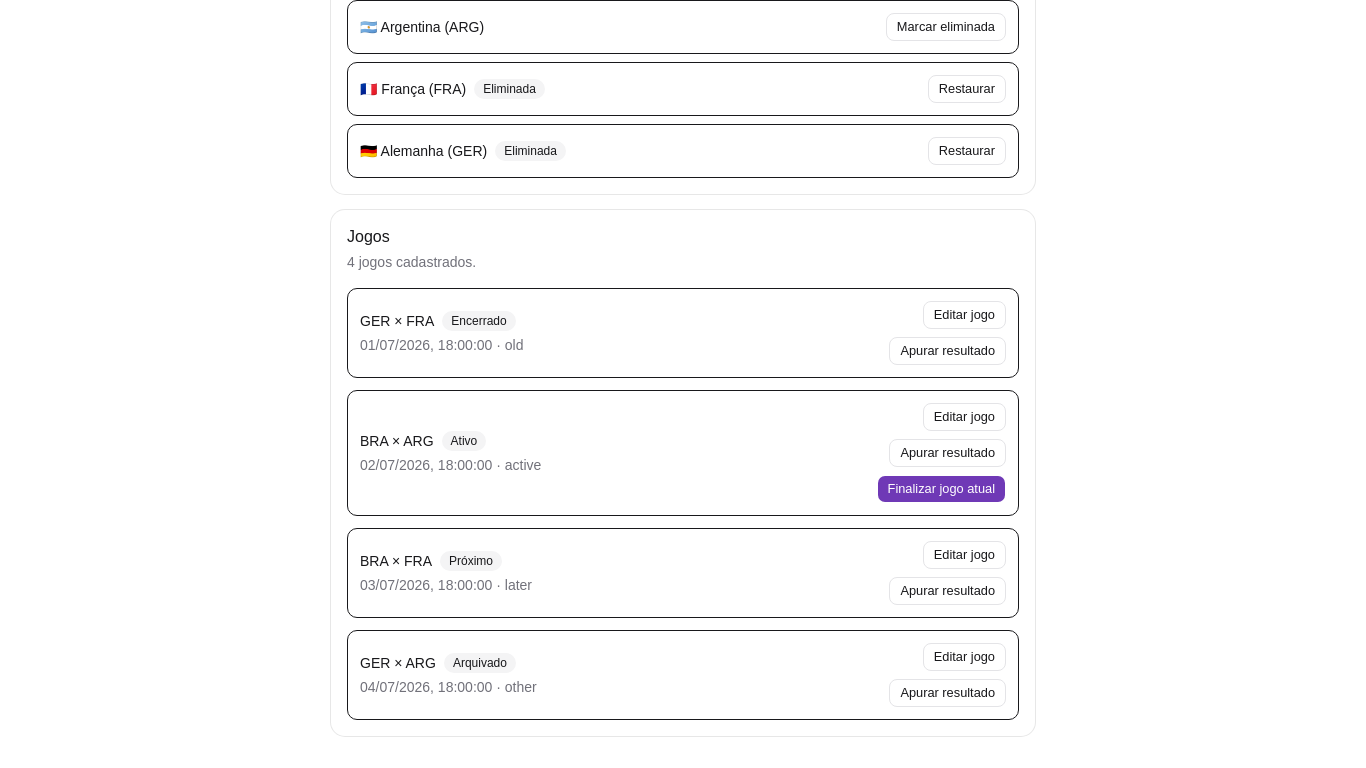
it: AdminMatchesPage › reports the next activated match and refreshes lifecycle queries
(page scrolled)
Click the button "Finalizar jogo atual". click: [941, 489]
box: [877,475,1006,503]
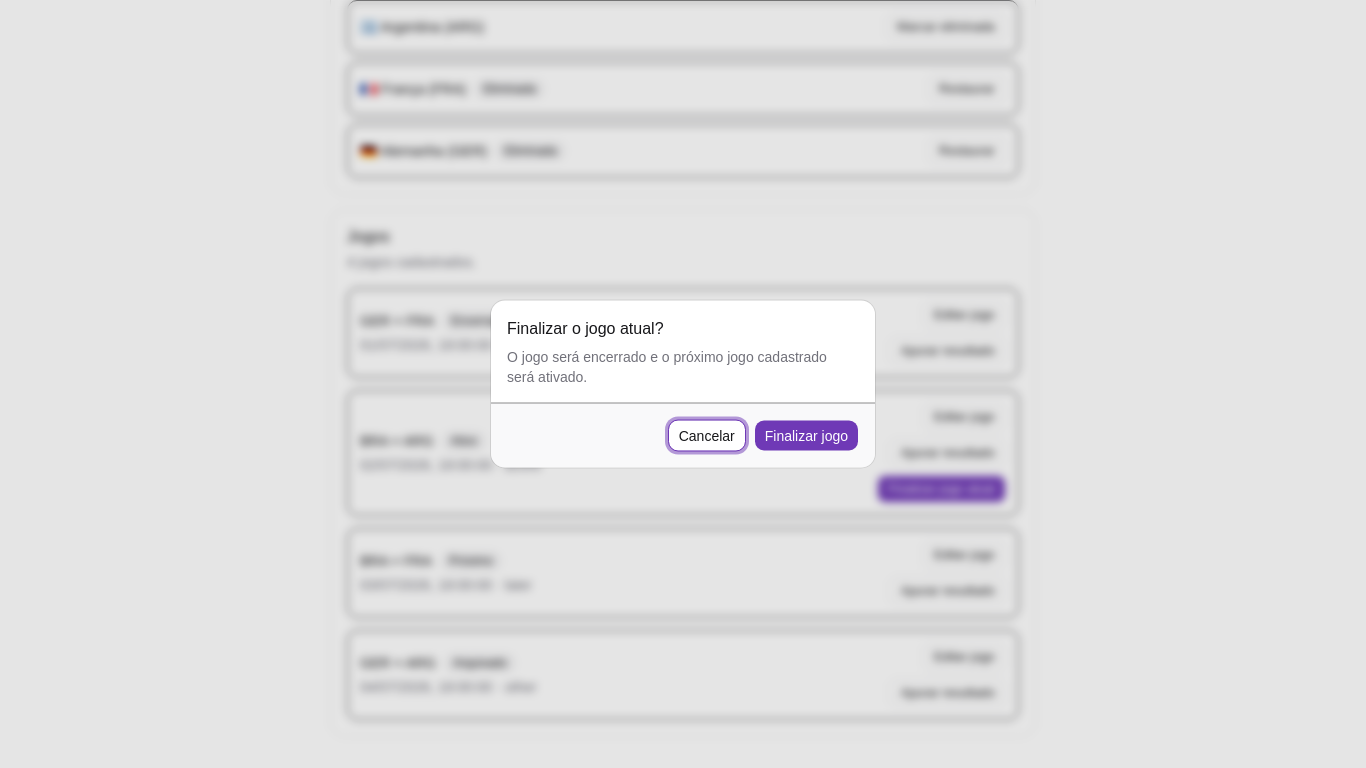
Click the button "Finalizar jogo". click: [806, 436]
box: [754,420,859,452]
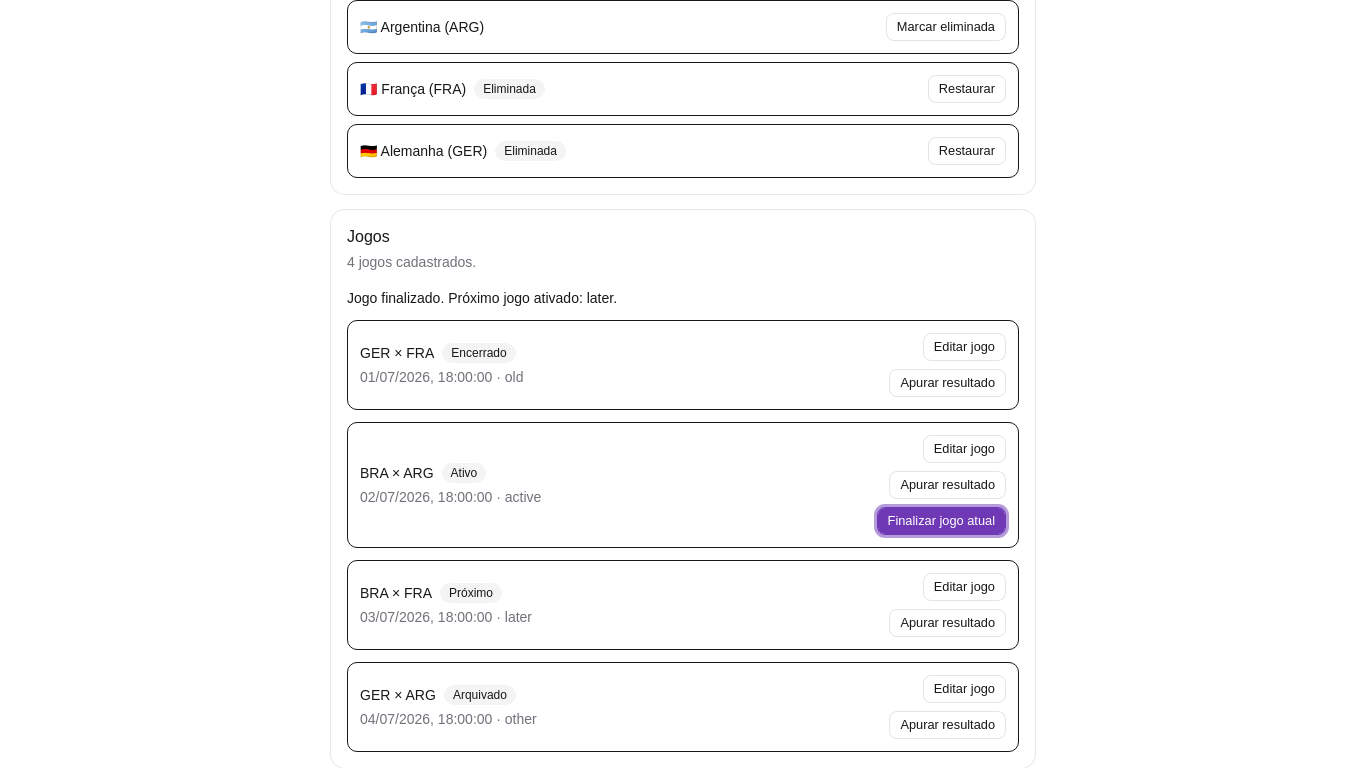
Result: the text "Jogo finalizado. Próximo jogo ativado: later." is shown at [347,290,617,306]
